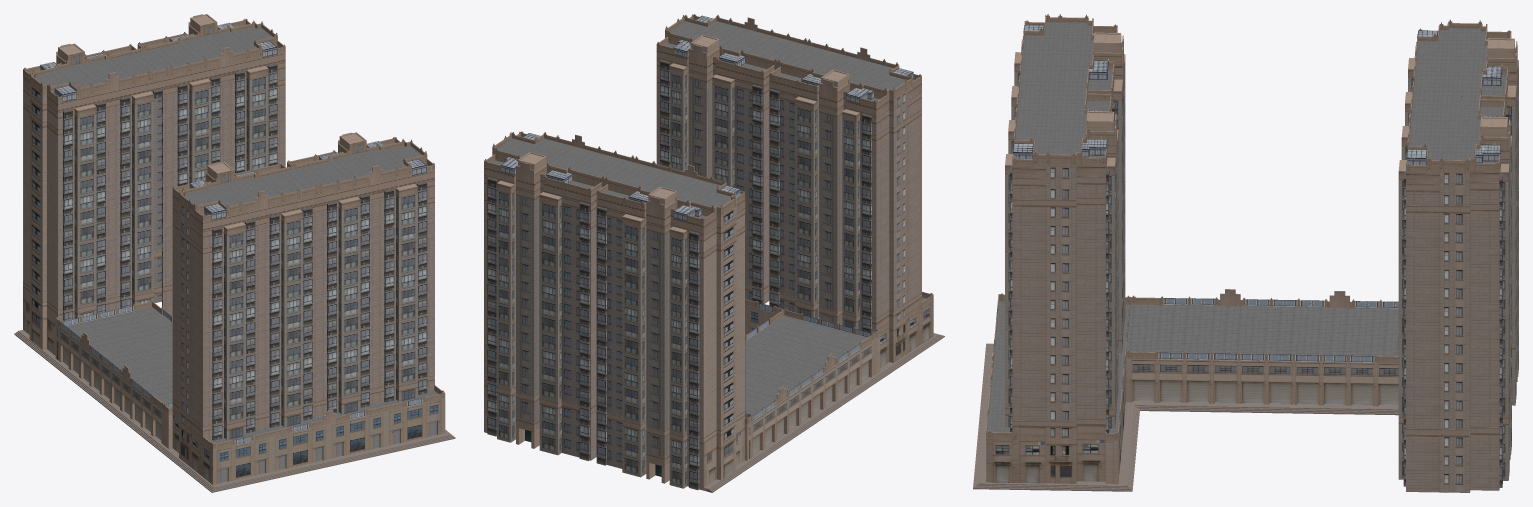
The model's file is GDZX_QY40.FBX.
The picture shows the model from 3 angles, left to right: view 1: azimuth 30°, elevation 25°; view 2: azimuth 150°, elevation 25°; view 3: azimuth 270°, elevation 25°; orthographic projection. The views are drawn at different scales.
Parts seen in each view (by area): view 1: GDZX_QY40; view 2: GDZX_QY40; view 3: GDZX_QY40.
Boxes of the visible parts, x1=… form: GDZX_QY40: x1=14, y1=14, x2=455, y2=492; GDZX_QY40: x1=484, y1=14, x2=944, y2=492; GDZX_QY40: x1=973, y1=14, x2=1518, y2=492.
Size of the model in its own units: 5304 by 5706 by 8257.
8 materials, 8 textured.
